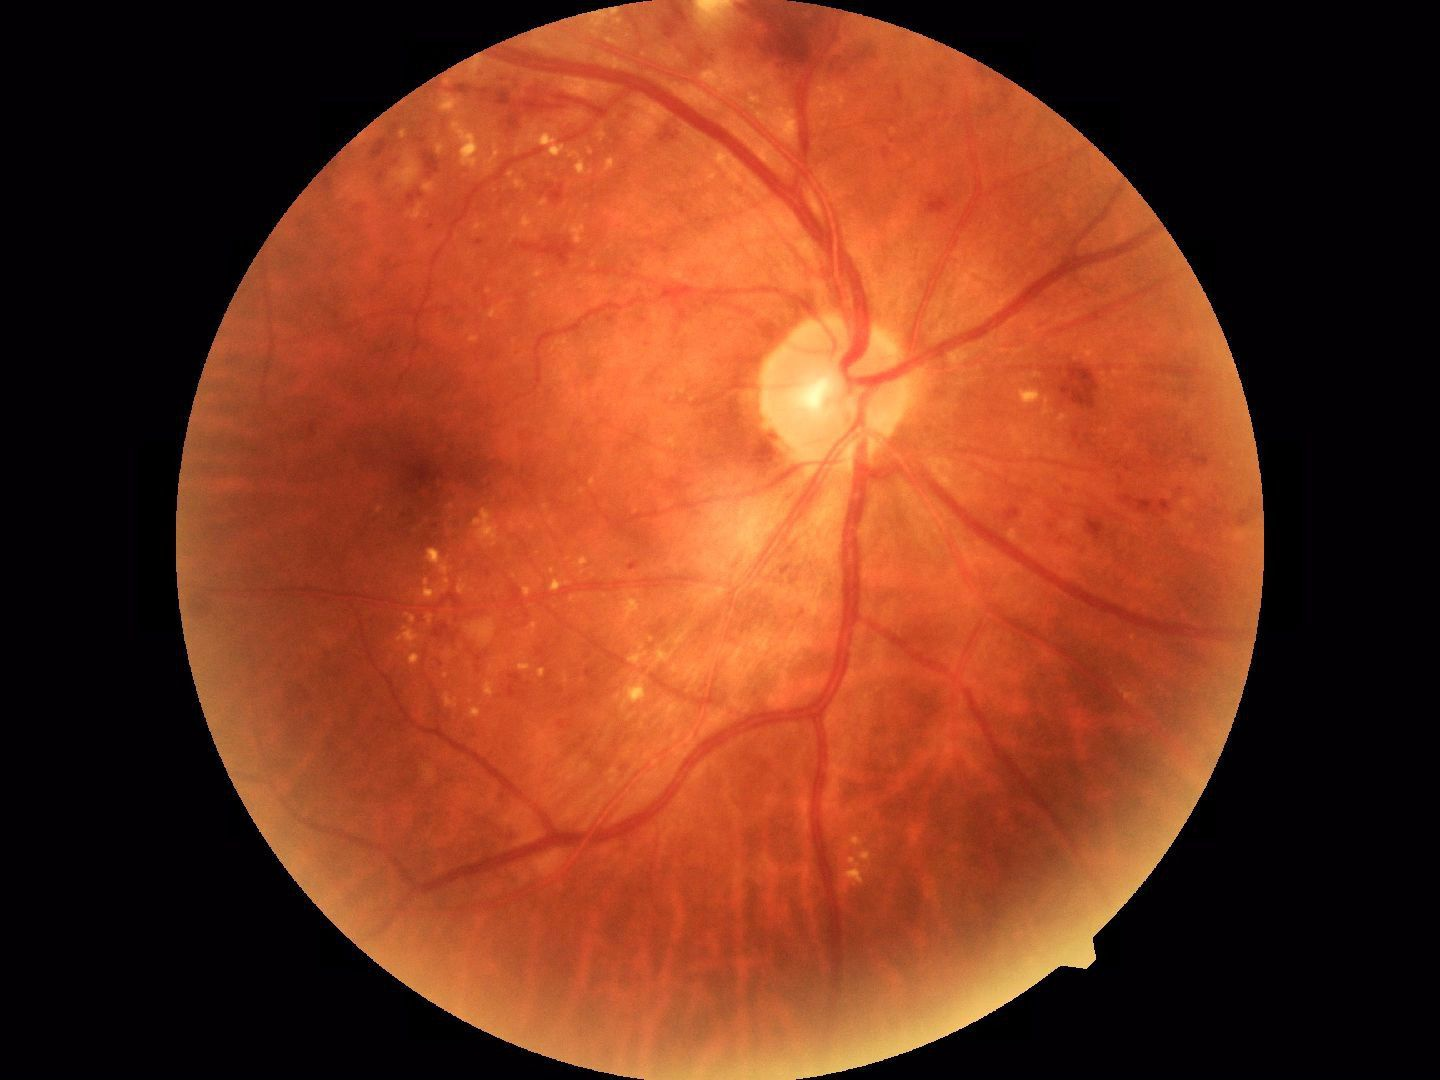Exudates: (412, 549, 551, 697), (417, 113, 610, 208), (836, 825, 889, 906)
Microaneurysms: (1051, 356, 1109, 427)
Optic-Disc: (755, 292, 931, 479)
Venules: (717, 130, 876, 269), (808, 535, 912, 704)
